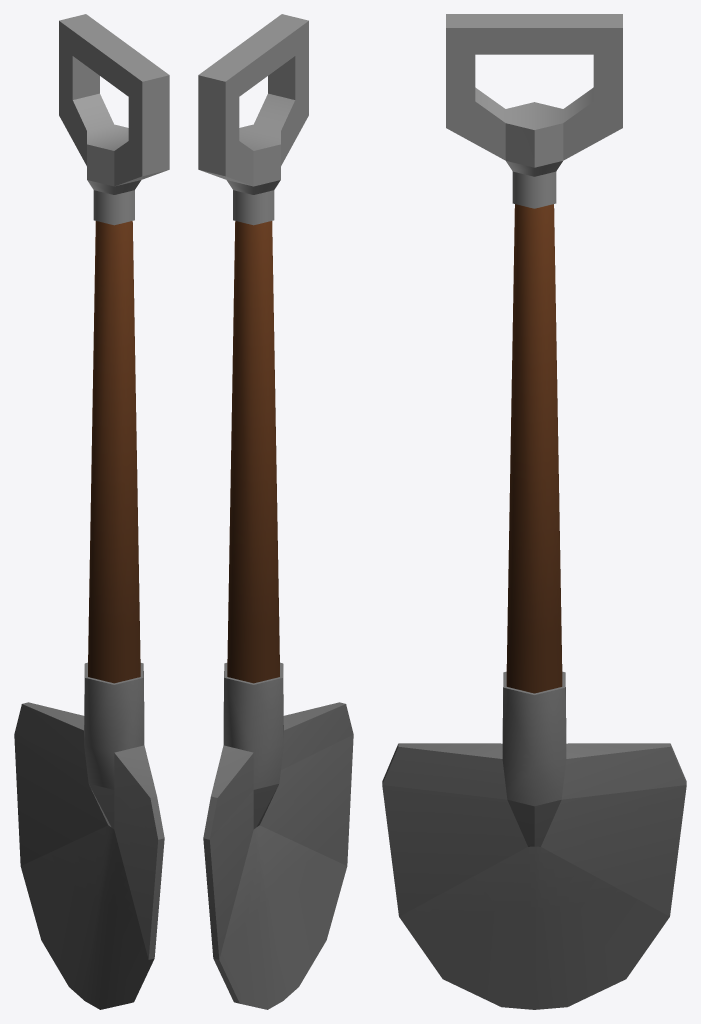
File: PROP_002_Pale.fbx
3 renders of one model, left to right at view 1: azimuth 30°, elevation 25°; view 2: azimuth 150°, elevation 25°; view 3: azimuth 270°, elevation 25°, orthographic. The views are drawn at different scales.
Parts seen in each view (by area): view 1: PROP_002_Pale; view 2: PROP_002_Pale; view 3: PROP_002_Pale.
Part boxes in pixels (left/top/right/bottom): PROP_002_Pale: left=14, top=14, right=169, bottom=1009; PROP_002_Pale: left=198, top=14, right=353, bottom=1009; PROP_002_Pale: left=382, top=14, right=686, bottom=1009.
Size of the model in its own units: 3.15 by 47.17 by 13.
